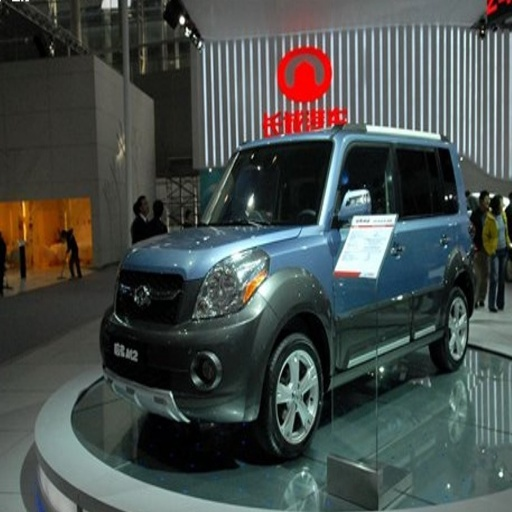front_bumper: (100, 264, 276, 448)
front_glass: (206, 144, 332, 226)
front_left_door: (328, 146, 414, 366)
trunk: (442, 217, 478, 277)
